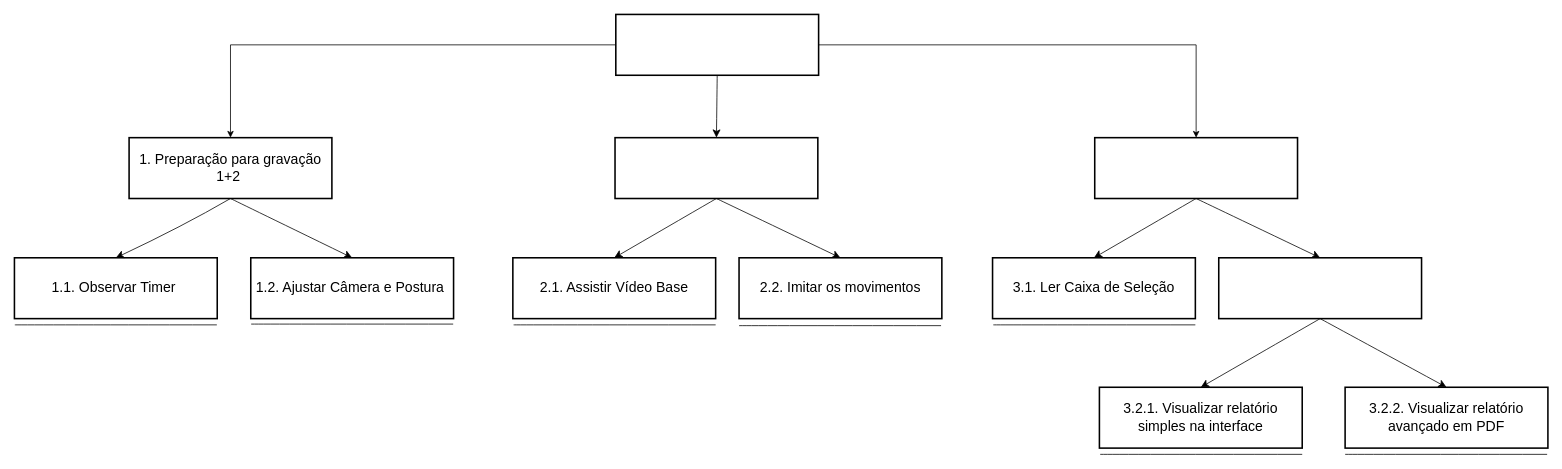
Some shapes in this 1562 by 469 pixel diagram are drawn without their labels. The centre of each missing label's shape, as x and y in pixels:
"0. Comparar Pose Com Captura ao Vivo 1>2>3" goes at pixel 717 44.
"2. Reproduzir movimentos 1+2" goes at pixel 716 167.
"3. Selecionar Resultados 1>2" goes at pixel 1196 167.
"3.2. Escolher relatório desejado 1/2" goes at pixel 1320 288.
